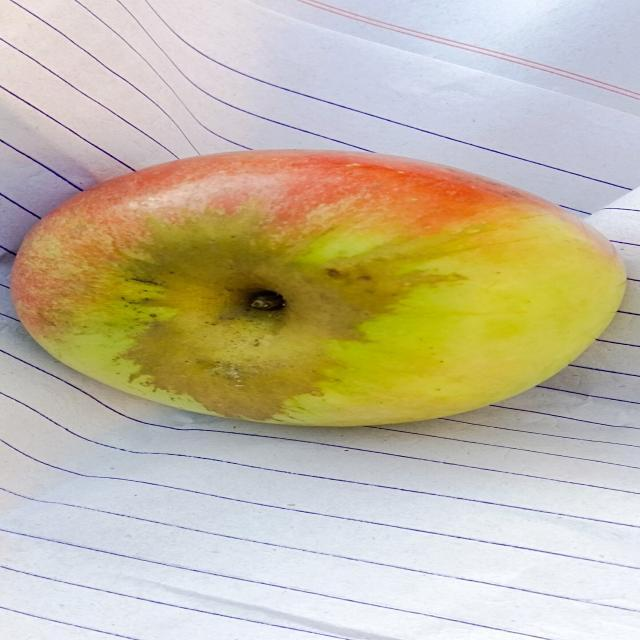Fresh Apple: (6, 139, 634, 427)
